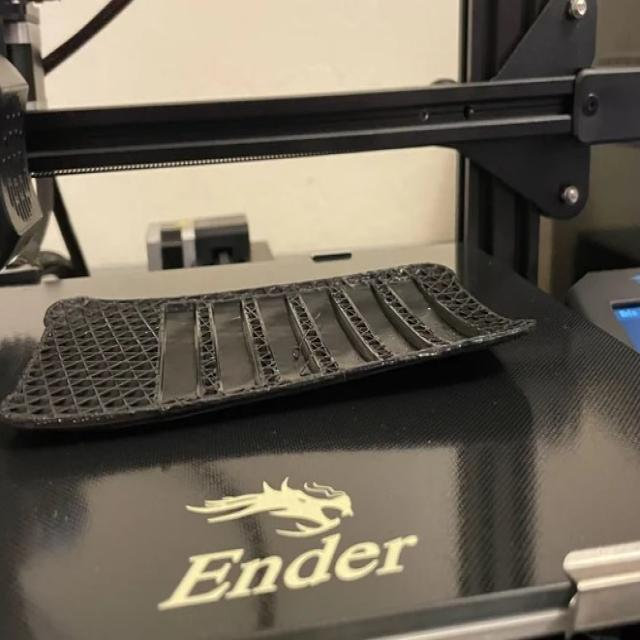Warping: (402, 302, 548, 383)
